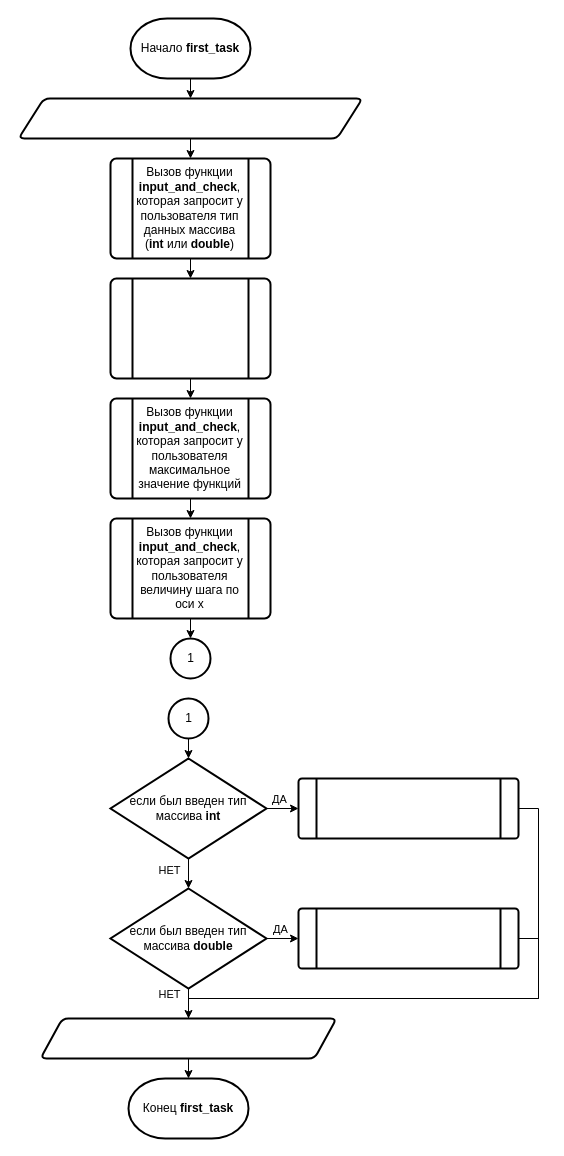
Some shapes in this 564 by 1156 pixel diagram are drawn without their labels. The centre of each missing label's shape, as x and y in pixels:
"== КОНЕЦ ПЕРВОГО ЭТАПА ==\n\n": the point at 188,1038
"========= ПЕРВЫЙ ЭТАП =========\n": the point at 190,118
Вызов функции creating_arrays , которая создаст последовательности типа double: the point at 408,938
Вызов функции creating_arrays , которая создаст последовательности типа int: the point at 408,808
Вызов функции input_and_check , которая запросит у пользователя размер массива: the point at 190,328
